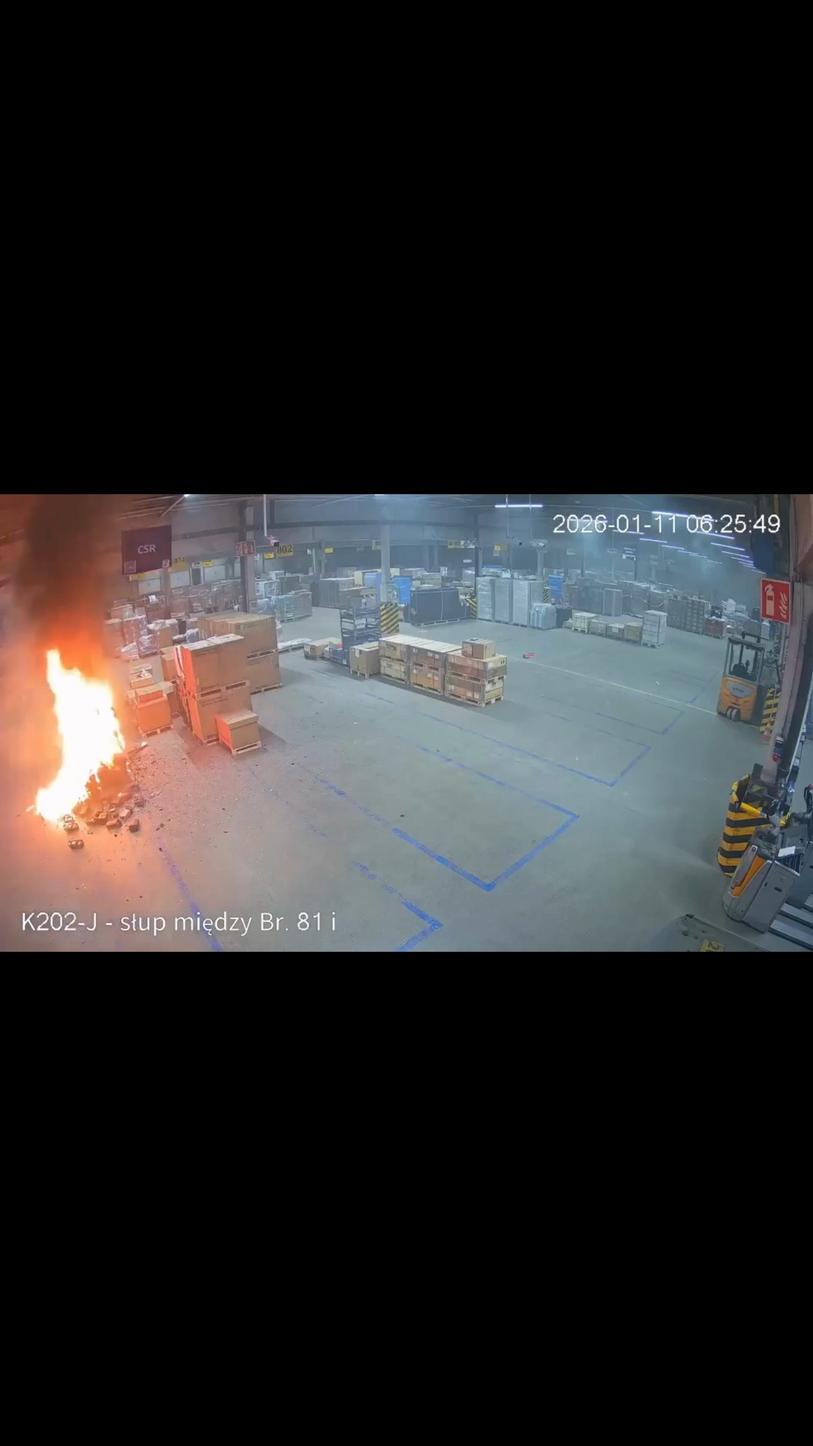fire: (32, 645, 133, 828)
smoke: (0, 495, 132, 653)
